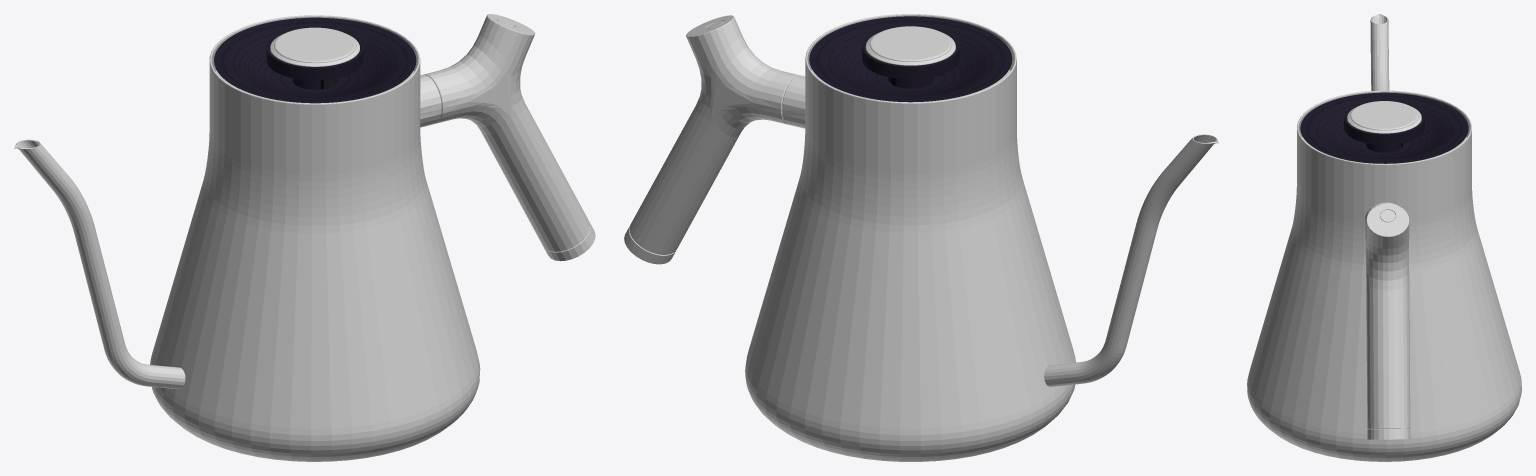
File: stagg_teapot2.glb
3 renders of one model, left to right at view 1: azimuth 30°, elevation 25°; view 2: azimuth 150°, elevation 25°; view 3: azimuth 270°, elevation 25°, orthographic. The views are drawn at different scales.
Parts seen in each view (by area): view 1: Stagg_Teapot_01_geometry; view 2: Stagg_Teapot_01_geometry; view 3: Stagg_Teapot_01_geometry.
Boxes of the visible parts, x1,y1,x2,y2 form: Stagg_Teapot_01_geometry: (14,14,595,461); Stagg_Teapot_01_geometry: (624,14,1218,461); Stagg_Teapot_01_geometry: (1247,14,1521,461).
Bounding box in the file's own units: 310 × 182 × 152.
Materials: 2 (1 with a texture image).
